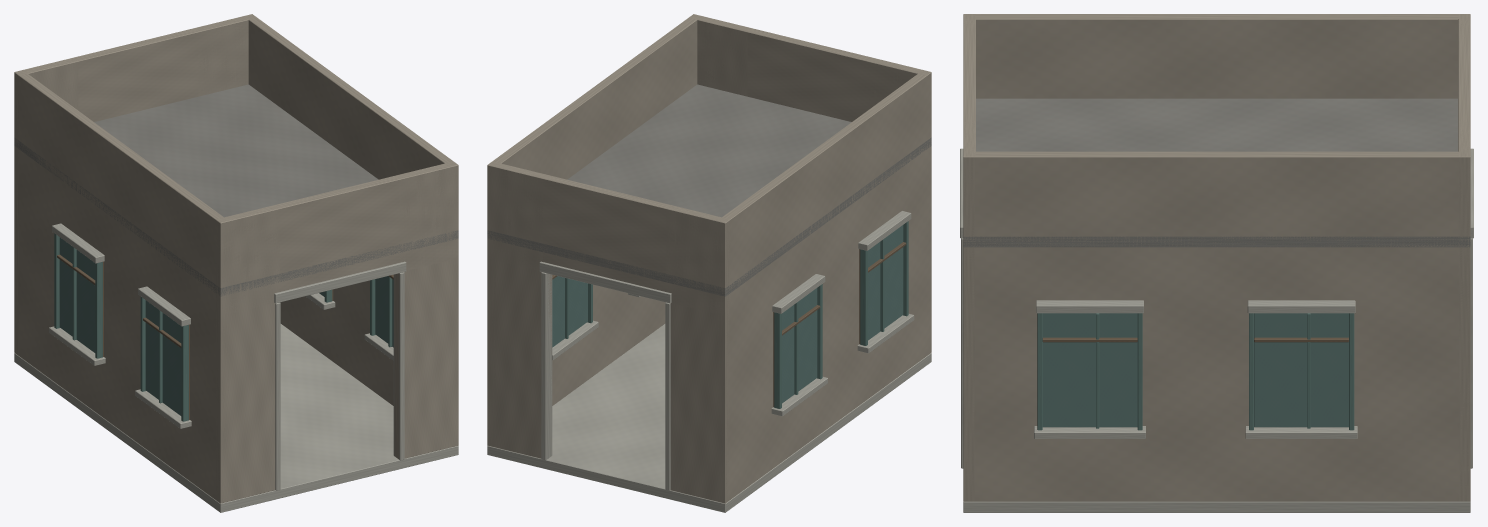
Rendered from U03_BridgeApartment_visual.glb.
3 renders of one model, left to right at view 1: azimuth 30°, elevation 25°; view 2: azimuth 150°, elevation 25°; view 3: azimuth 270°, elevation 25°, orthographic. The views are drawn at different scales.
Visible parts, largest first — view 1: U03_BridgeApartment__VIS_shell, U03_BridgeApartment__VIS_roof; view 2: U03_BridgeApartment__VIS_shell, U03_BridgeApartment__VIS_roof; view 3: U03_BridgeApartment__VIS_shell, U03_BridgeApartment__VIS_roof.
Boxes of the visible parts, x1,y1,x2,y2 form: U03_BridgeApartment__VIS_shell: [14, 14, 458, 512]; U03_BridgeApartment__VIS_roof: [14, 84, 458, 296]; U03_BridgeApartment__VIS_shell: [487, 14, 931, 512]; U03_BridgeApartment__VIS_roof: [487, 84, 931, 296]; U03_BridgeApartment__VIS_shell: [960, 14, 1473, 512]; U03_BridgeApartment__VIS_roof: [963, 98, 1470, 247].
Bounding box in the file's own units: 17.51 × 18.6 × 24.3.
Materials: 1 (1 with a texture image).
